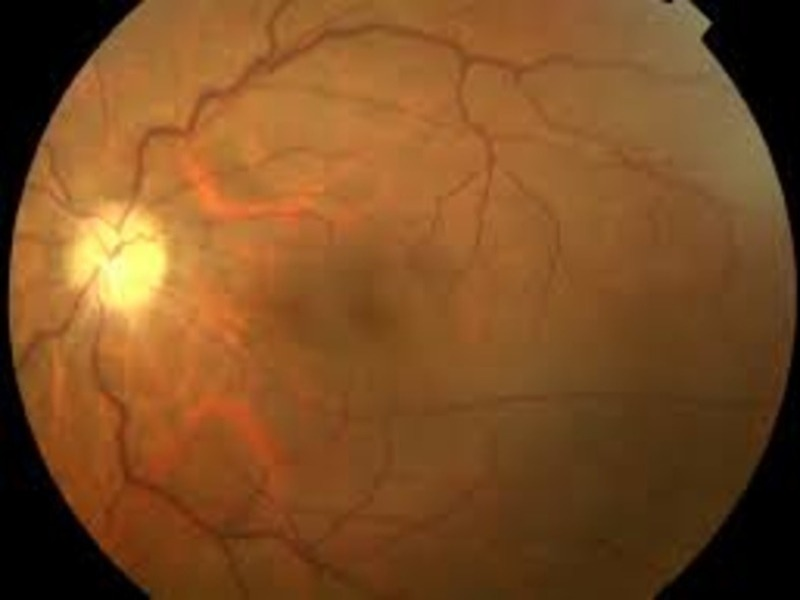Optic Cup: (73, 229, 173, 305)
Optic Disc: (73, 203, 174, 308)
